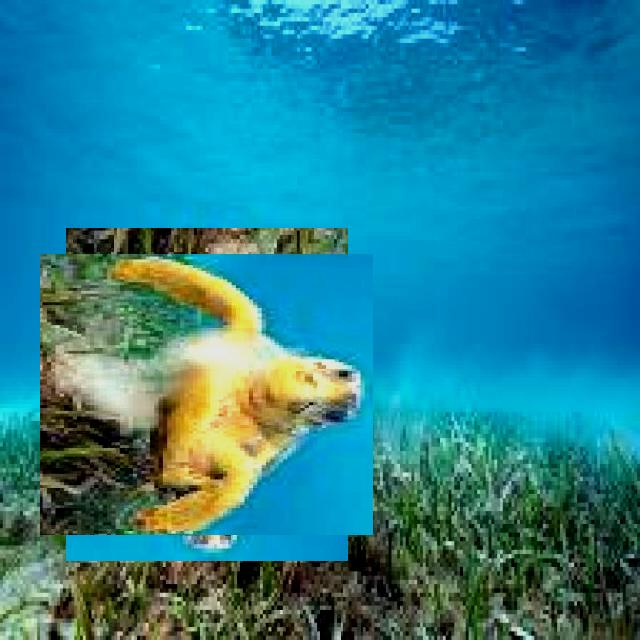Sea turtle: (53, 241, 361, 548)
